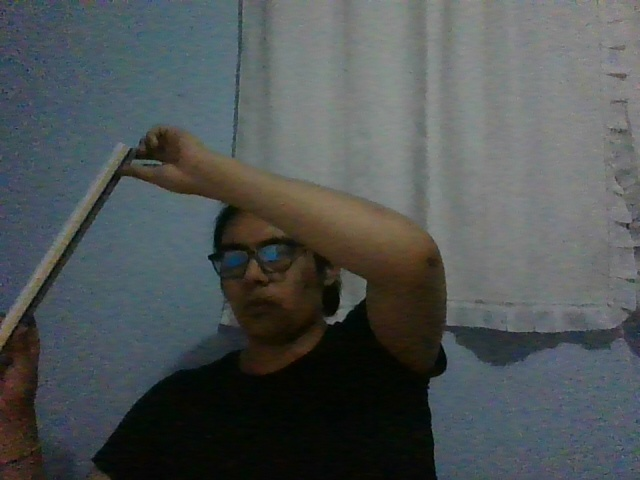regla: (1, 141, 136, 348)
